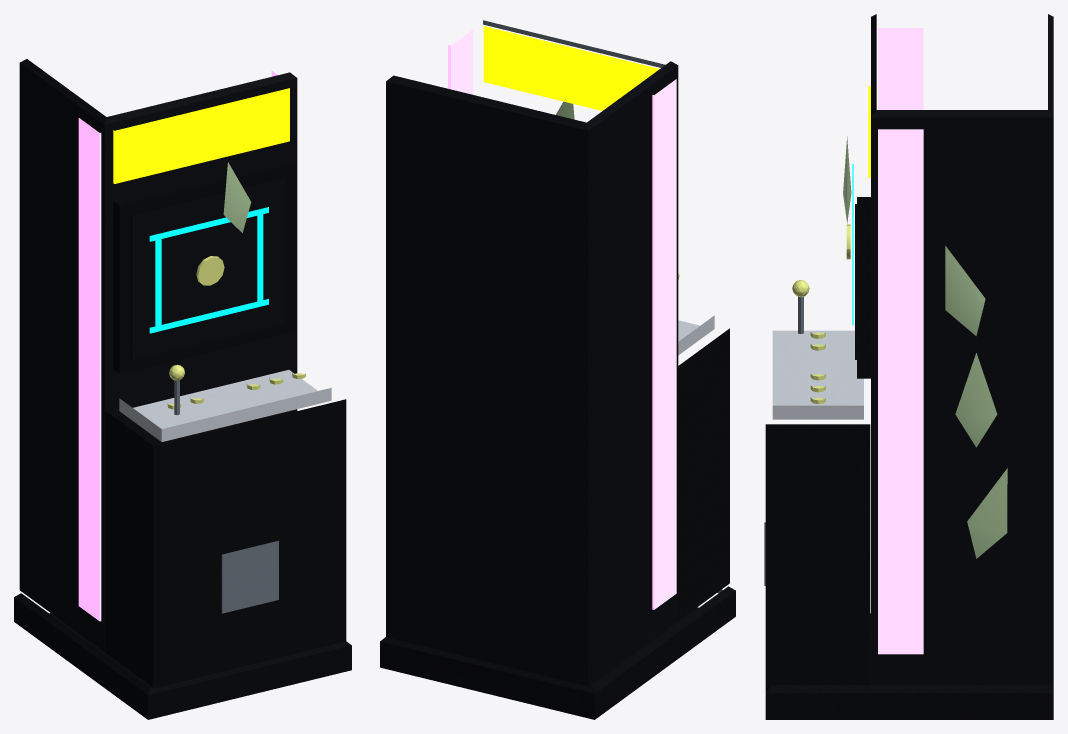
File: tt_arc_video.glb
3 views of the same model, side by side, from view 1: azimuth 30°, elevation 25°; view 2: azimuth 150°, elevation 25°; view 3: azimuth 270°, elevation 25° (orthographic). The views are drawn at different scales.
Parts seen in each view (by area): view 1: Cab_Deck, Cab_Body, Screen_Plate, Side_LED, Cab_Plinth, Marquee, Screen_Bezel, Cab_Panel, Coin_Plate, Scr_Art, Scr_Leaf, Scr_Ball; view 2: Cab_Body, Side_LED, Cab_Deck, Cab_Plinth, Marquee, Cab_Body_Reveal, Cab_Panel; view 3: Cab_Body, Side_LED, Cab_Deck, Cab_Plinth, Cab_Panel, Side_Leaf, Screen_Bezel.
Boxes of the visible parts, left/top/right/bottom form: Cab_Deck: left=105, top=399, right=346, bottom=688; Cab_Body: left=19, top=59, right=297, bottom=652; Screen_Plate: left=131, top=178, right=284, bottom=360; Side_LED: left=78, top=71, right=277, bottom=621; Cab_Plinth: left=14, top=593, right=351, bottom=719; Marquee: left=113, top=88, right=289, bottom=183; Screen_Bezel: left=113, top=163, right=295, bottom=374; Cab_Panel: left=119, top=370, right=331, bottom=441; Coin_Plate: left=221, top=540, right=278, bottom=613; Scr_Art: left=149, top=207, right=268, bottom=333; Scr_Leaf: left=223, top=162, right=251, bottom=232; Scr_Ball: left=196, top=256, right=224, bottom=285; Cab_Body: left=386, top=61, right=678, bottom=686; Side_LED: left=448, top=29, right=676, bottom=609; Cab_Deck: left=678, top=328, right=729, bottom=620; Cab_Plinth: left=380, top=586, right=735, bottom=719; Marquee: left=483, top=26, right=659, bottom=110; Cab_Body_Reveal: left=483, top=20, right=665, bottom=67; Cab_Panel: left=678, top=315, right=714, bottom=355; Cab_Body: left=871, top=14, right=1053, bottom=684; Side_LED: left=878, top=28, right=923, bottom=654; Cab_Deck: left=765, top=424, right=870, bottom=684; Cab_Plinth: left=765, top=613, right=1053, bottom=719; Cab_Panel: left=772, top=330, right=863, bottom=419; Side_Leaf: left=945, top=246, right=1007, bottom=558; Screen_Bezel: left=857, top=197, right=870, bottom=378.
Size of what is drawn, in the model's own units: 0.72 by 1.9 by 0.824.
Materials: 9 (4 with a texture image).
